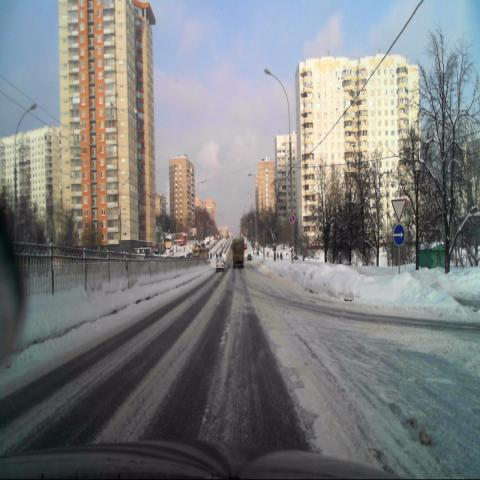4_1_2_1: (392, 224, 406, 247)
